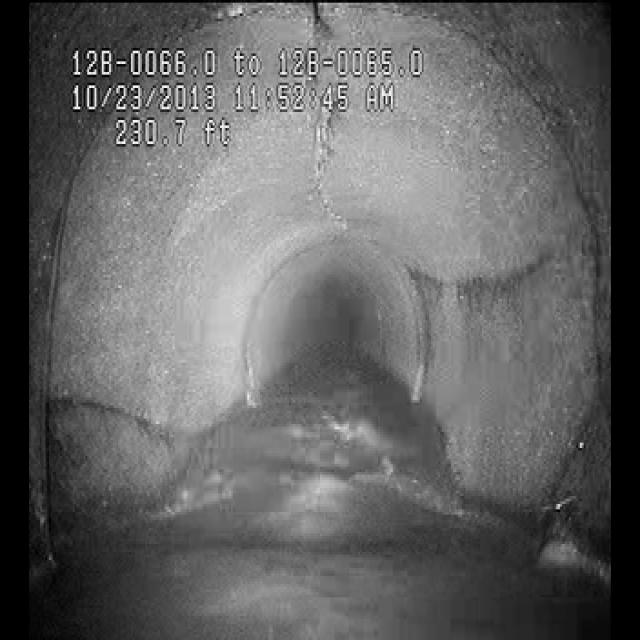Fracture: (293, 12, 362, 238), (52, 382, 200, 481), (401, 244, 577, 320)
